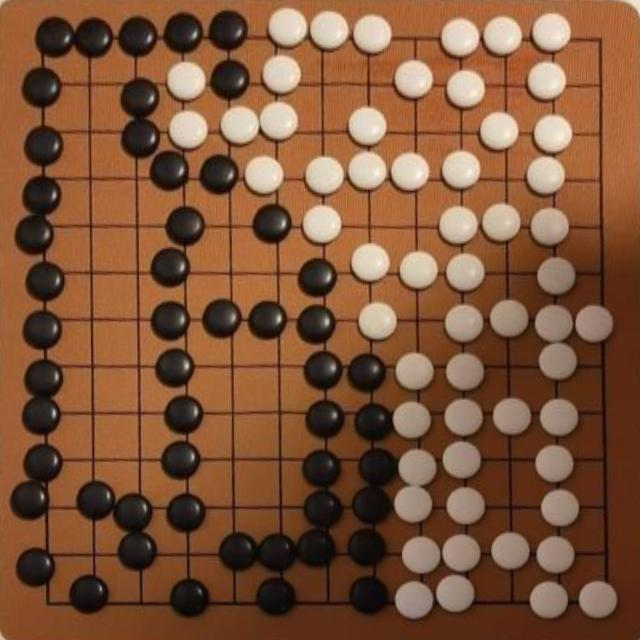blackstone: (160, 440, 202, 481), (163, 11, 204, 52), (150, 248, 191, 288), (25, 262, 65, 302), (24, 126, 64, 166), (23, 67, 63, 107), (118, 16, 158, 56), (252, 204, 293, 243), (202, 299, 242, 338), (76, 481, 116, 520), (121, 119, 161, 158), (74, 18, 114, 57), (36, 18, 75, 58), (210, 60, 250, 99), (208, 10, 248, 49), (256, 534, 297, 572), (23, 310, 62, 349), (151, 302, 190, 341), (164, 396, 204, 434), (248, 300, 288, 338), (302, 450, 342, 488), (352, 486, 392, 524), (298, 258, 338, 296), (120, 78, 160, 116), (24, 359, 64, 397), (358, 449, 398, 487), (350, 576, 390, 614), (16, 215, 54, 254), (167, 494, 206, 532), (200, 154, 238, 193), (70, 575, 109, 613), (155, 349, 194, 387), (22, 176, 61, 214), (23, 398, 62, 436), (11, 482, 50, 520), (113, 494, 152, 532), (303, 491, 343, 528), (347, 530, 387, 567), (256, 578, 296, 615), (118, 532, 156, 570), (306, 400, 344, 438), (219, 532, 257, 570), (17, 549, 55, 587), (24, 444, 62, 482), (166, 207, 204, 245), (150, 152, 188, 190), (347, 354, 386, 391), (297, 306, 336, 343), (296, 530, 336, 566), (355, 404, 393, 441), (304, 352, 342, 389), (170, 580, 209, 616)
whitestone: (244, 154, 286, 197), (440, 150, 482, 193), (444, 252, 486, 294), (302, 203, 344, 244), (258, 101, 300, 142), (261, 54, 303, 95), (530, 207, 572, 248), (444, 398, 486, 439), (538, 397, 580, 438), (393, 59, 434, 100), (398, 250, 440, 290), (539, 488, 581, 528), (442, 533, 484, 573), (442, 440, 484, 480), (534, 304, 576, 344), (445, 486, 487, 526), (220, 106, 261, 146), (350, 242, 391, 282), (438, 206, 479, 246), (395, 352, 436, 392), (444, 304, 485, 344), (440, 18, 481, 58), (445, 352, 486, 392), (527, 61, 568, 101), (526, 156, 567, 196), (535, 444, 576, 484), (166, 61, 208, 100), (348, 152, 388, 192), (483, 16, 523, 56), (574, 304, 614, 344), (531, 12, 571, 52), (536, 256, 576, 296), (436, 574, 476, 614), (396, 580, 436, 620), (530, 580, 570, 620), (309, 10, 350, 49), (401, 535, 442, 574), (489, 299, 530, 338), (538, 342, 579, 381), (394, 485, 435, 524), (478, 112, 520, 150), (482, 203, 522, 242), (305, 156, 345, 195), (533, 115, 573, 154), (446, 70, 486, 109), (353, 14, 393, 53), (492, 397, 532, 436), (268, 8, 308, 47), (393, 402, 433, 441), (536, 535, 576, 574), (578, 580, 618, 619), (169, 111, 208, 150), (391, 153, 430, 192), (491, 532, 530, 571), (397, 448, 437, 486), (358, 303, 398, 341), (348, 107, 388, 145)
